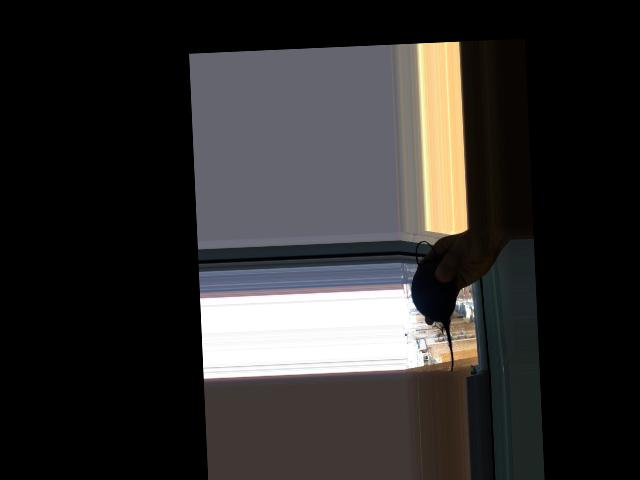beet: (409, 240, 460, 373)
